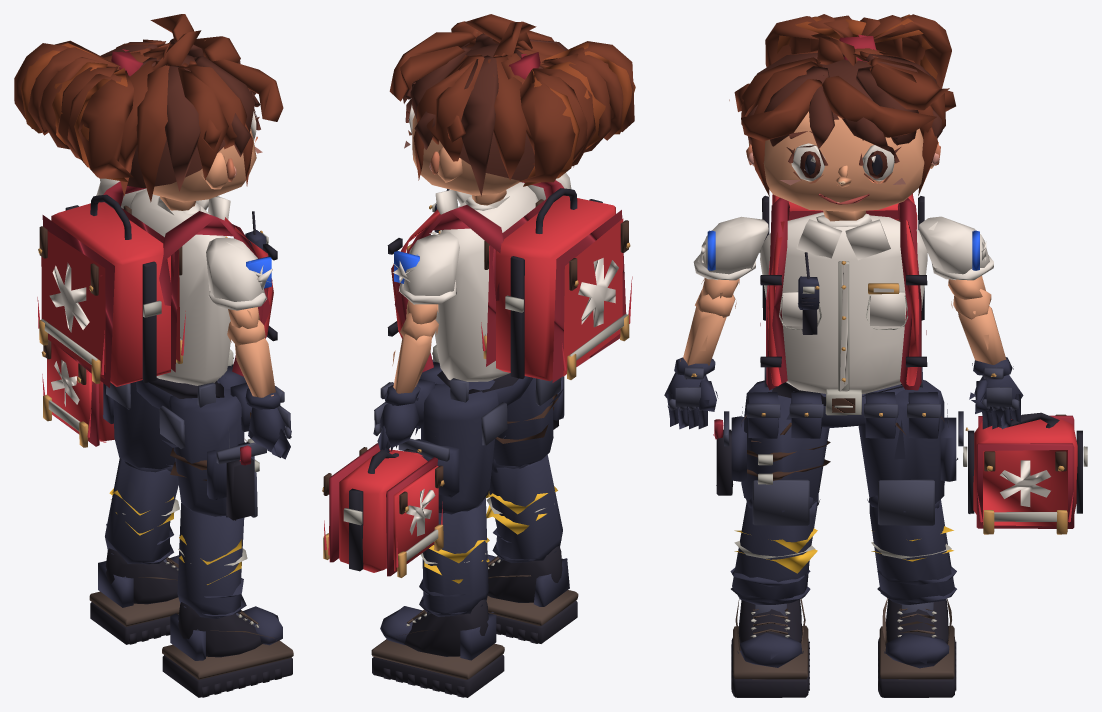
3 renders of one model, left to right at view 1: azimuth 30°, elevation 25°; view 2: azimuth 150°, elevation 25°; view 3: azimuth 270°, elevation 25°, orthographic.
Parts seen in each view (by area): view 1: head, torso, legR, footR, shinR, footL, shinL, handL, armR, legL, foreArmR, hip (+1 smaller); view 2: torso, head, handL, footL, legL, footR, shinR, shinL, armL, legR, foreArmL, hip; view 3: head, torso, handL, legR, legL, hip, footL, footR, shinR, shinL, armL, armR (+3 smaller).
Part boxes in pixels (box(x1,y1,x2,y2)): head: box(14, 14, 283, 210); torso: box(37, 181, 277, 387); legR: box(159, 388, 266, 520); footR: box(162, 602, 293, 697); shinR: box(177, 503, 247, 618); footL: box(89, 548, 180, 644); shinL: box(105, 458, 179, 564); handL: box(41, 340, 114, 447); armR: box(206, 238, 272, 328); legL: box(103, 382, 175, 469); foreArmR: box(227, 320, 284, 409); hip: box(136, 349, 252, 442); torso: box(387, 180, 632, 382); head: box(389, 14, 635, 205); handL: box(322, 402, 444, 577); footL: box(371, 599, 504, 697); legL: box(398, 383, 507, 514); footR: box(486, 546, 578, 643); shinR: box(486, 455, 562, 562); shinL: box(419, 497, 489, 616); armL: box(392, 232, 459, 324); legR: box(492, 376, 564, 466); foreArmL: box(380, 313, 438, 405); hip: box(414, 345, 532, 428); head: box(729, 14, 955, 221); torso: box(759, 193, 927, 394); handL: box(963, 375, 1087, 534); legR: box(713, 380, 830, 525); legL: box(858, 380, 968, 525); hip: box(742, 367, 944, 442); footL: box(878, 598, 956, 697); footR: box(731, 598, 809, 697); shinR: box(730, 492, 820, 604); shinL: box(867, 495, 956, 604); armL: box(919, 216, 993, 299); armR: box(693, 216, 768, 299).
Size of the model in its own units: 0.4688 by 1.43 by 0.8692.
